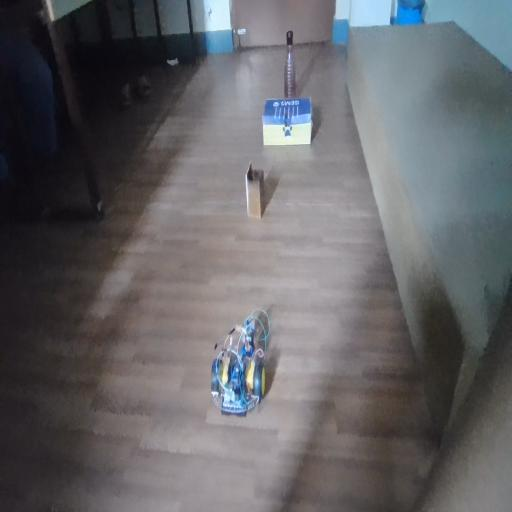Bottle: (282, 25, 307, 103)
car: (201, 306, 273, 420)
